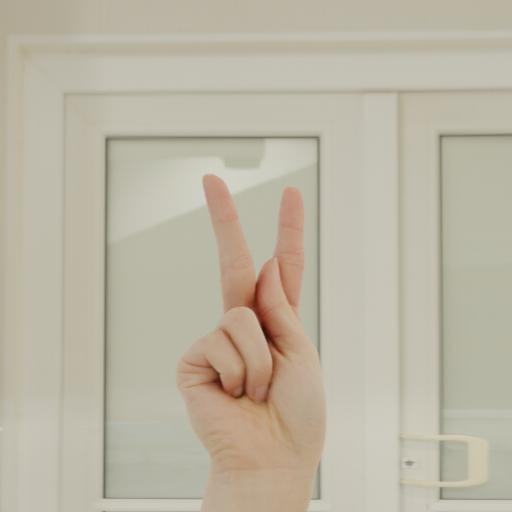K: (159, 154, 346, 512)
